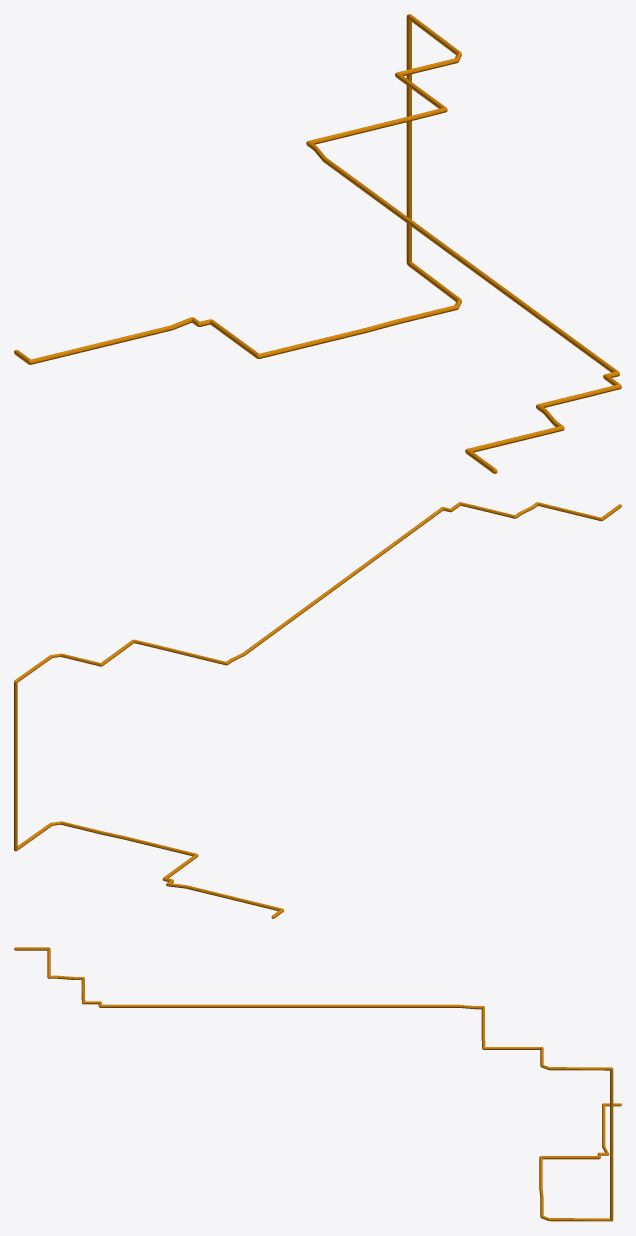
The picture shows the model from 3 angles, top to bottom: view 1: azimuth 30°, elevation 25°; view 2: azimuth 150°, elevation 25°; view 3: azimuth 270°, elevation 25°; orthographic projection. The views are drawn at different scales.
Bounding box in the file's own units: 1723 × 1020 × 3650.
